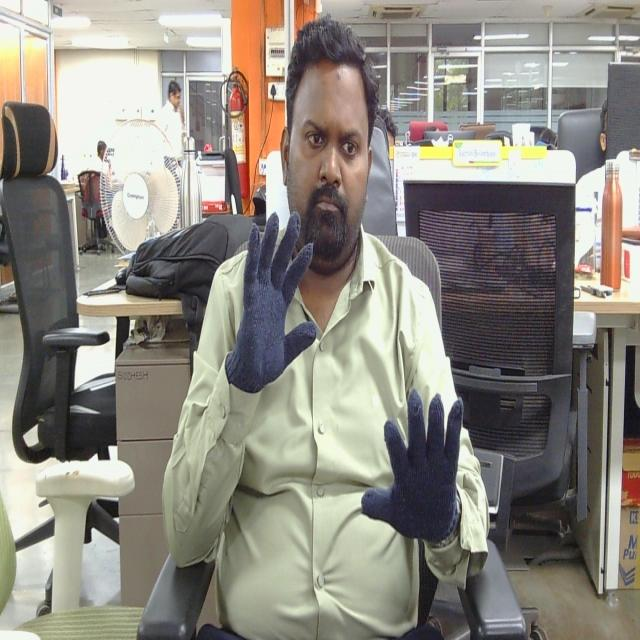Gloves-Detection: (226, 200, 318, 390), (360, 387, 464, 548)
